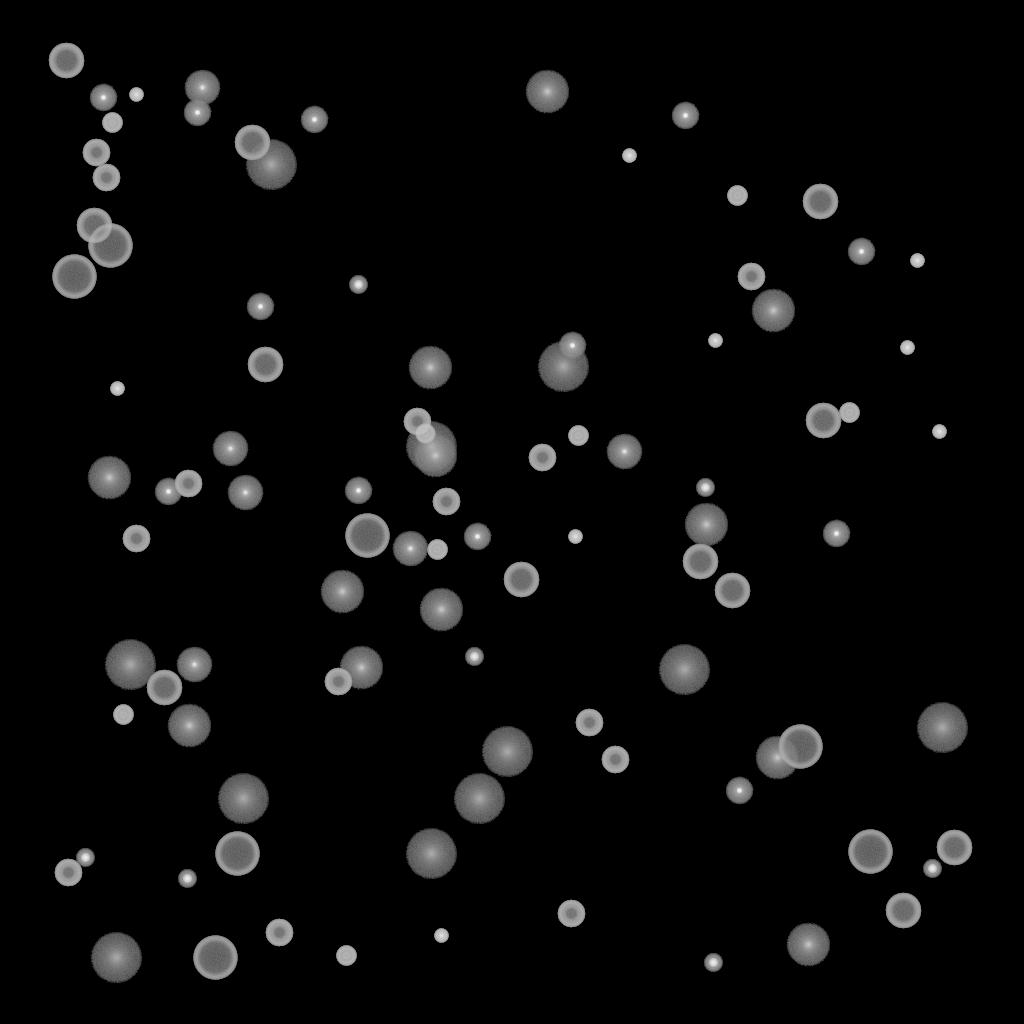depth:-10: (89, 84, 117, 112), (558, 332, 586, 360), (822, 520, 850, 548), (300, 106, 328, 134), (154, 478, 182, 506), (725, 777, 753, 805), (344, 477, 372, 505), (463, 523, 491, 551), (183, 99, 211, 127), (671, 102, 699, 130), (246, 293, 274, 321), (847, 238, 875, 266)
depth:-20: (349, 276, 367, 294), (696, 479, 714, 497), (76, 849, 94, 867), (465, 648, 483, 666), (923, 860, 941, 878), (704, 954, 722, 972), (178, 870, 196, 888)
depth:-30: (434, 929, 448, 943), (900, 341, 914, 355), (568, 530, 582, 544), (910, 254, 924, 268), (129, 88, 143, 102), (110, 382, 124, 396), (622, 149, 636, 163), (932, 425, 946, 439), (708, 334, 722, 348)
depth:-40: (336, 946, 356, 966), (839, 403, 859, 423), (727, 186, 747, 206), (102, 113, 122, 133), (427, 540, 447, 560), (568, 426, 588, 446), (113, 705, 133, 725), (415, 424, 435, 444)
depth:-50: (575, 709, 603, 737), (403, 408, 431, 436), (92, 164, 120, 192), (82, 139, 110, 167), (528, 444, 556, 472), (432, 488, 460, 516), (557, 900, 585, 928), (737, 263, 765, 291), (265, 919, 293, 947), (174, 470, 202, 498), (122, 525, 150, 553), (601, 746, 629, 774), (54, 859, 82, 887), (324, 668, 352, 696)
depth:-60: (503, 562, 539, 598), (802, 184, 838, 220), (936, 830, 972, 866), (247, 347, 283, 383), (234, 125, 270, 161), (76, 208, 112, 244), (885, 893, 921, 929), (682, 544, 718, 580), (805, 403, 841, 439), (48, 43, 84, 79), (146, 670, 182, 706), (714, 573, 750, 609)
depth:-70: (52, 255, 96, 299), (193, 936, 237, 980), (215, 832, 259, 876), (345, 514, 389, 558), (88, 224, 132, 268), (848, 830, 892, 874), (778, 725, 822, 769)
depth:0: (606, 434, 642, 470), (212, 431, 248, 467), (392, 531, 428, 567), (227, 475, 263, 511), (184, 70, 220, 106), (176, 647, 212, 683)
depth:10: (525, 70, 569, 114), (786, 923, 830, 967), (320, 570, 364, 614), (339, 646, 383, 690), (751, 289, 795, 333), (755, 736, 799, 780), (167, 704, 211, 748), (87, 456, 131, 500), (684, 503, 728, 547), (413, 434, 457, 478), (408, 346, 452, 390), (419, 588, 463, 632)
depth:20: (916, 703, 968, 753), (217, 774, 269, 824), (537, 342, 589, 392), (245, 140, 297, 190), (453, 774, 505, 824), (90, 933, 142, 983), (481, 727, 533, 777), (658, 645, 710, 695), (405, 829, 457, 879), (104, 640, 156, 690), (405, 422, 457, 472)
